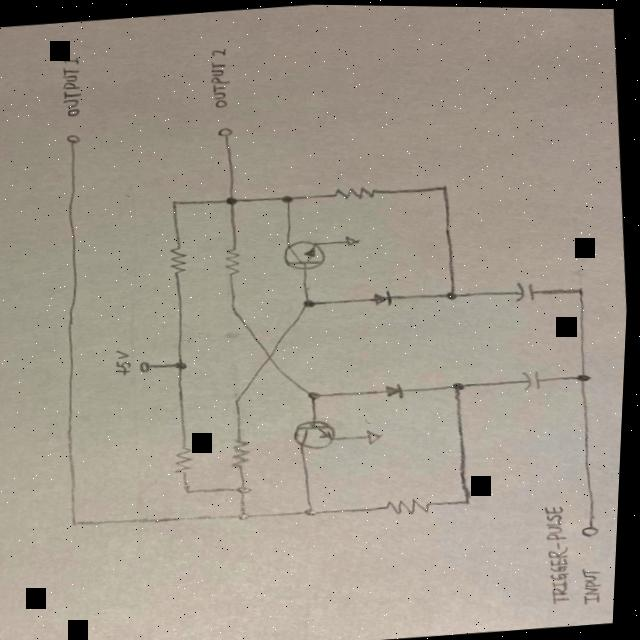capacitor: (510, 277, 540, 303), (518, 367, 544, 392)
diode: (382, 378, 409, 402), (370, 285, 396, 308)
ground: (361, 426, 386, 446), (339, 232, 363, 248)
junction: (298, 500, 327, 522), (445, 374, 472, 397), (569, 366, 600, 386), (295, 294, 325, 314), (256, 347, 286, 367), (170, 353, 195, 376), (454, 490, 481, 511), (568, 278, 593, 300), (439, 284, 464, 305), (231, 481, 260, 499), (274, 188, 300, 208), (232, 506, 259, 525), (300, 387, 328, 405), (432, 177, 456, 197), (180, 481, 202, 499), (165, 194, 188, 211), (65, 515, 87, 532), (219, 192, 242, 208), (227, 392, 248, 409), (224, 302, 244, 318)
resistor: (328, 181, 382, 204), (169, 440, 201, 478), (229, 431, 257, 472), (384, 494, 435, 516), (220, 241, 246, 281), (165, 243, 194, 278)
terminal: (55, 127, 89, 153), (209, 122, 240, 143), (135, 353, 161, 376), (581, 520, 607, 541)
text: (538, 501, 581, 607), (51, 52, 89, 119), (202, 46, 235, 111), (581, 563, 611, 605), (108, 346, 136, 381)
transistor: (289, 416, 345, 454), (278, 235, 330, 274)
